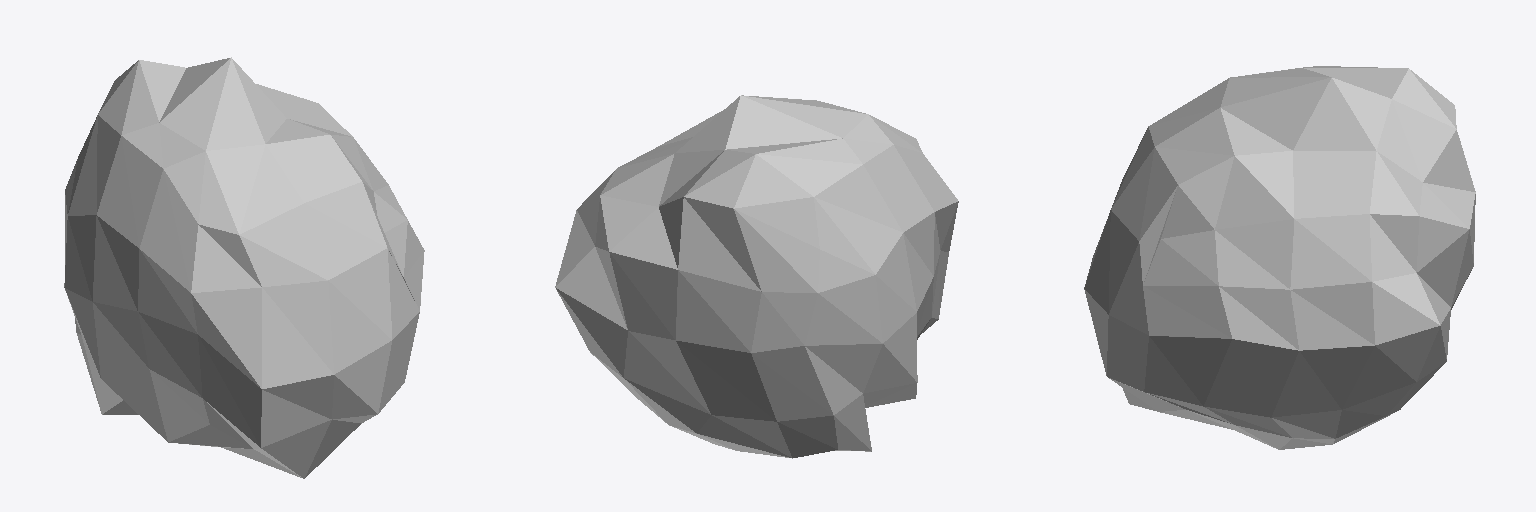
The model's file is rockParticle.obj.
3 renders of one model, left to right at view 1: azimuth 30°, elevation 25°; view 2: azimuth 150°, elevation 25°; view 3: azimuth 270°, elevation 25°, orthographic.
Parts seen in each view (by area): view 1: Cube.006; view 2: Cube.006; view 3: Cube.006.
Part boxes in pixels (x1,y1,x2,y2): Cube.006: (64,57,424,478); Cube.006: (555,95,958,458); Cube.006: (1084,66,1475,449).
Size of the model in its own units: 1.42 by 1.56 by 1.54.